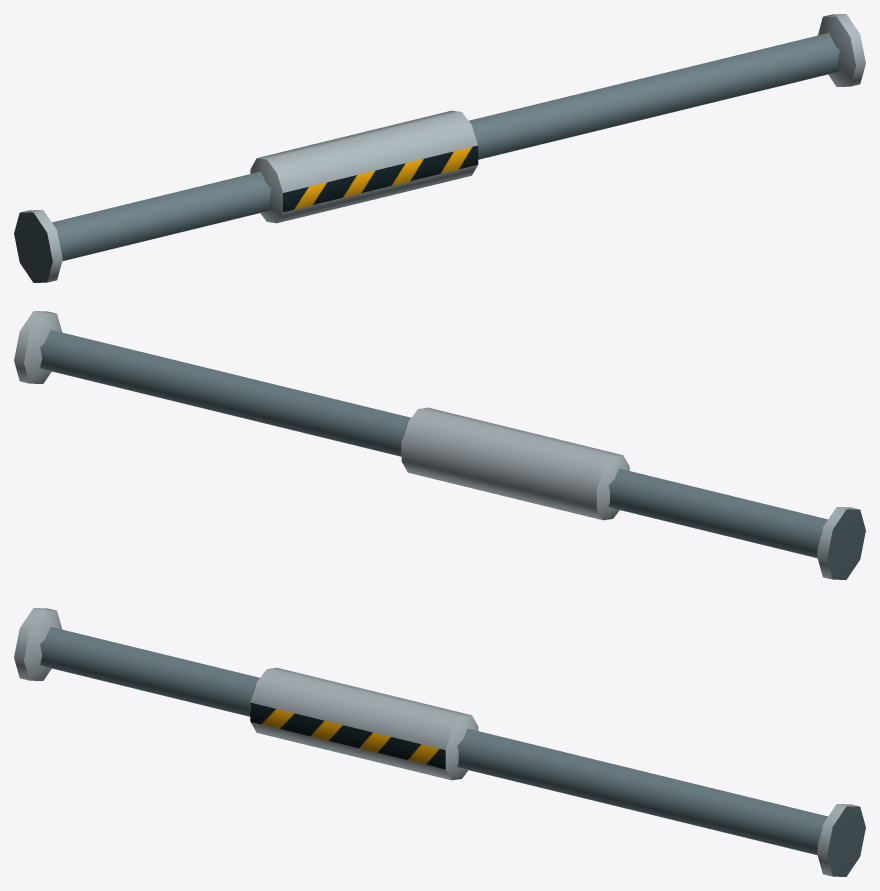
The model's file is Pipe_004.fbx.
3 views of the same model, one above another, from view 1: azimuth 30°, elevation 25°; view 2: azimuth 150°, elevation 25°; view 3: azimuth 330°, elevation 25° (orthographic).
Visible parts, largest first — view 1: Pipe_004; view 2: Pipe_004; view 3: Pipe_004.
Boxes of the visible parts, box(x1,y1,x2,y2) form: Pipe_004: box(14, 14, 865, 282); Pipe_004: box(14, 311, 865, 579); Pipe_004: box(14, 608, 865, 876).
Bounding box in the file's own units: 307 × 25.5 × 25.5.
